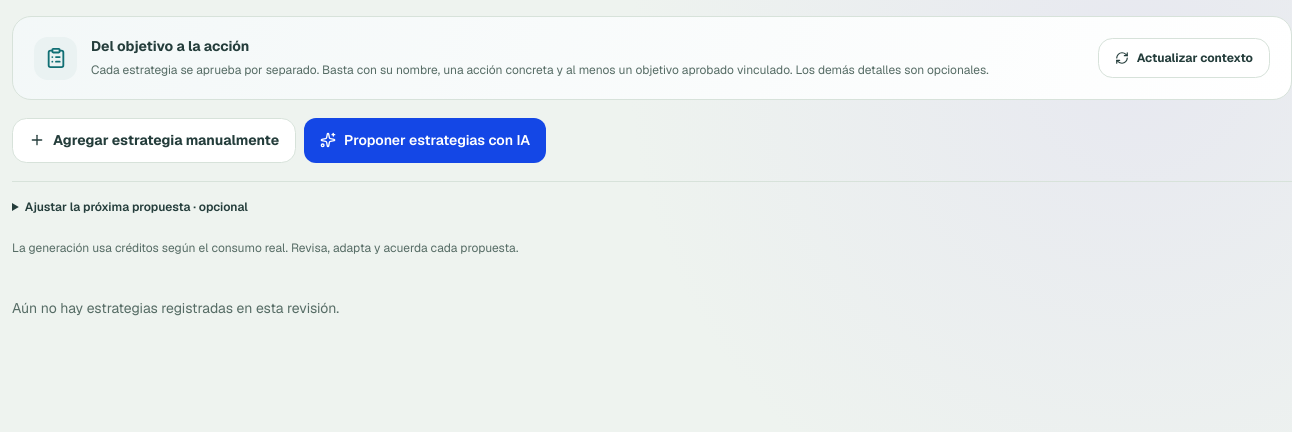
Scenario: keeps a valid empty proposal distinct from an incompatible response
Click the button "Proponer estrategias con IA". click: (425, 140)
box: x1=304 y1=118 x2=546 y2=163
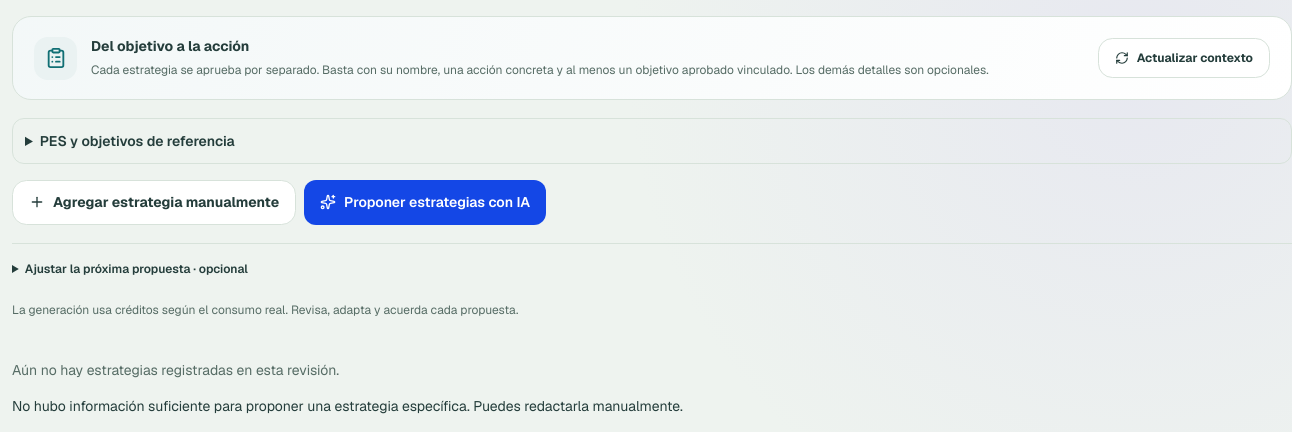
Expected: the text "No hubo información suficiente para proponer" is shown, x1=12 y1=397 x2=683 y2=415
